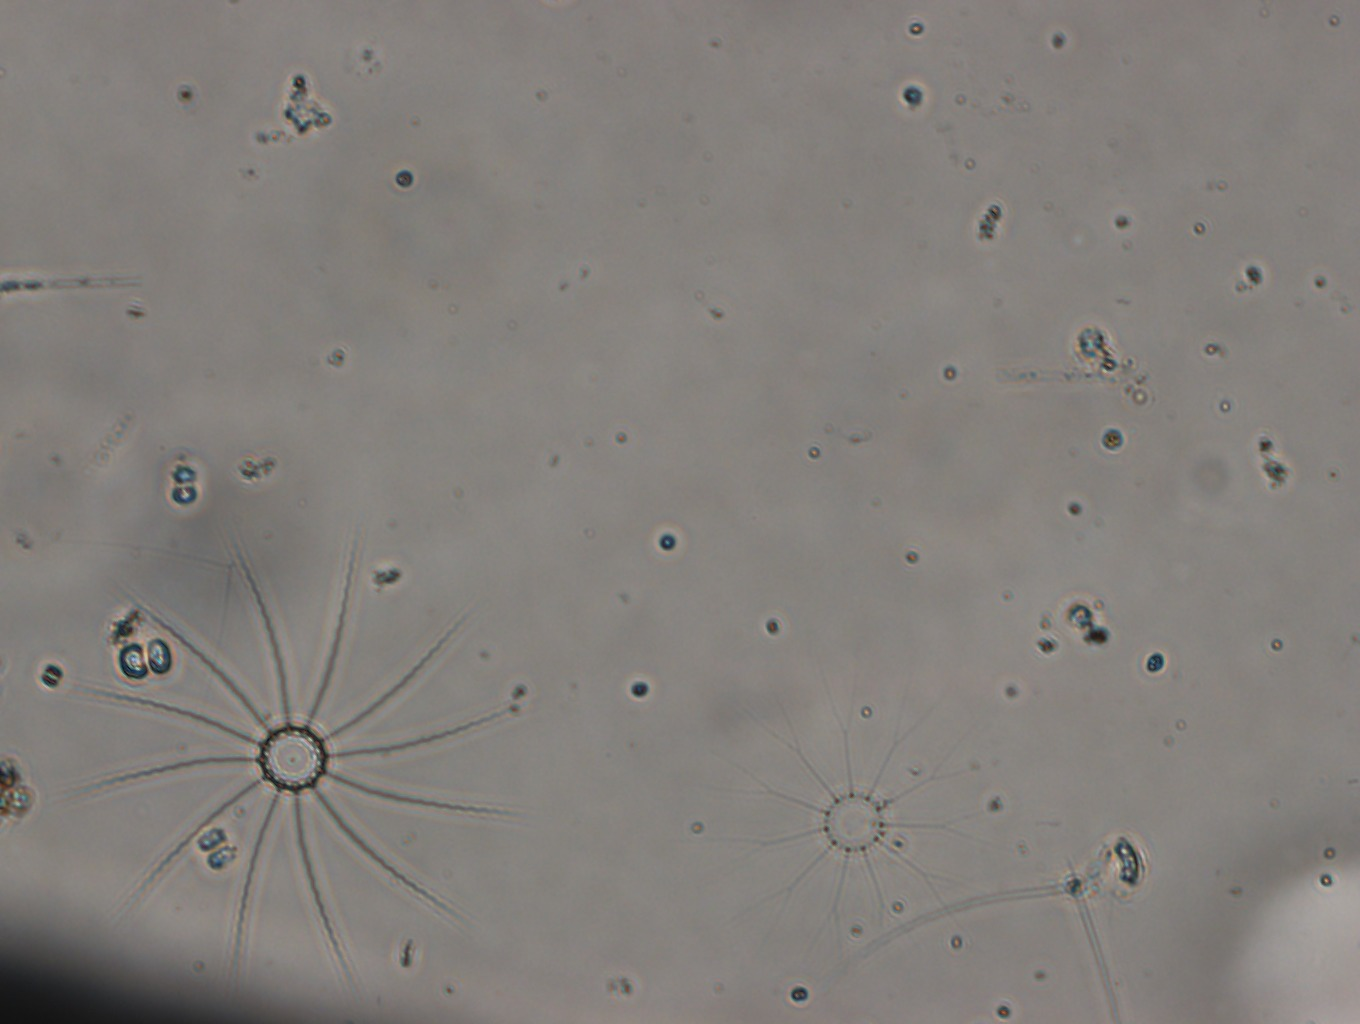bacteriastrum: (56, 534, 527, 987), (711, 658, 1018, 969)
